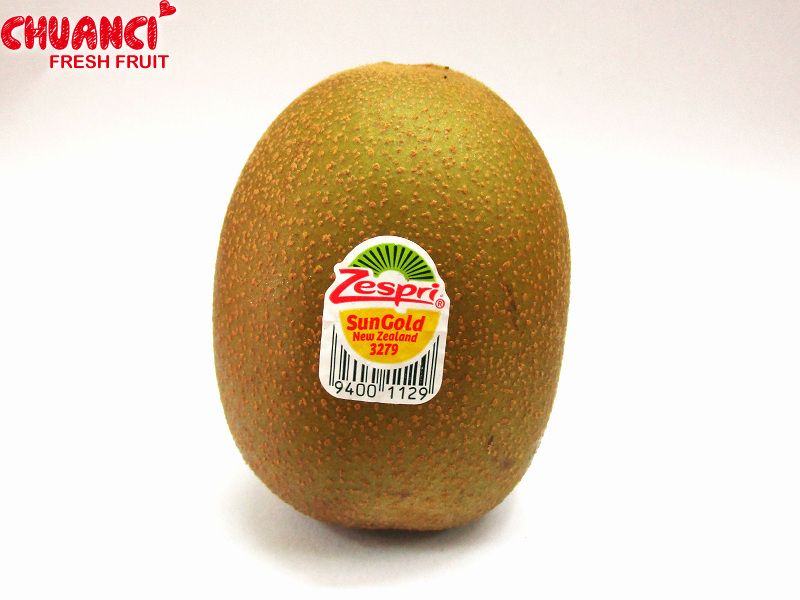kiwi: (211, 61, 571, 530)
